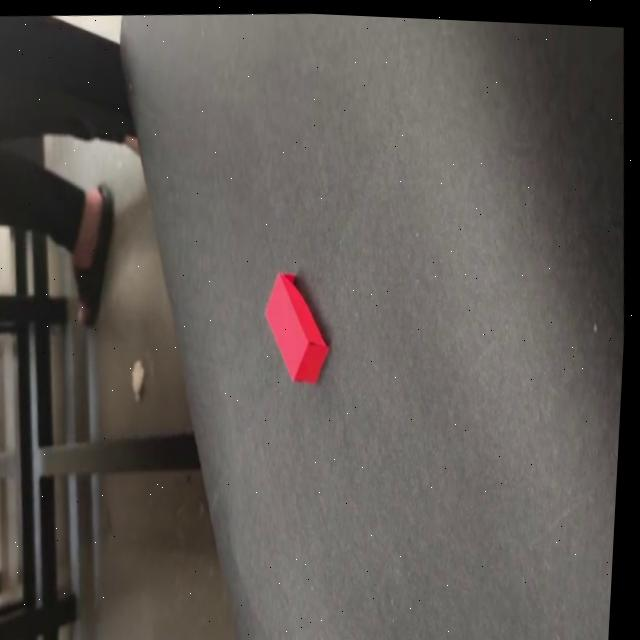red block: (257, 269, 335, 389)
